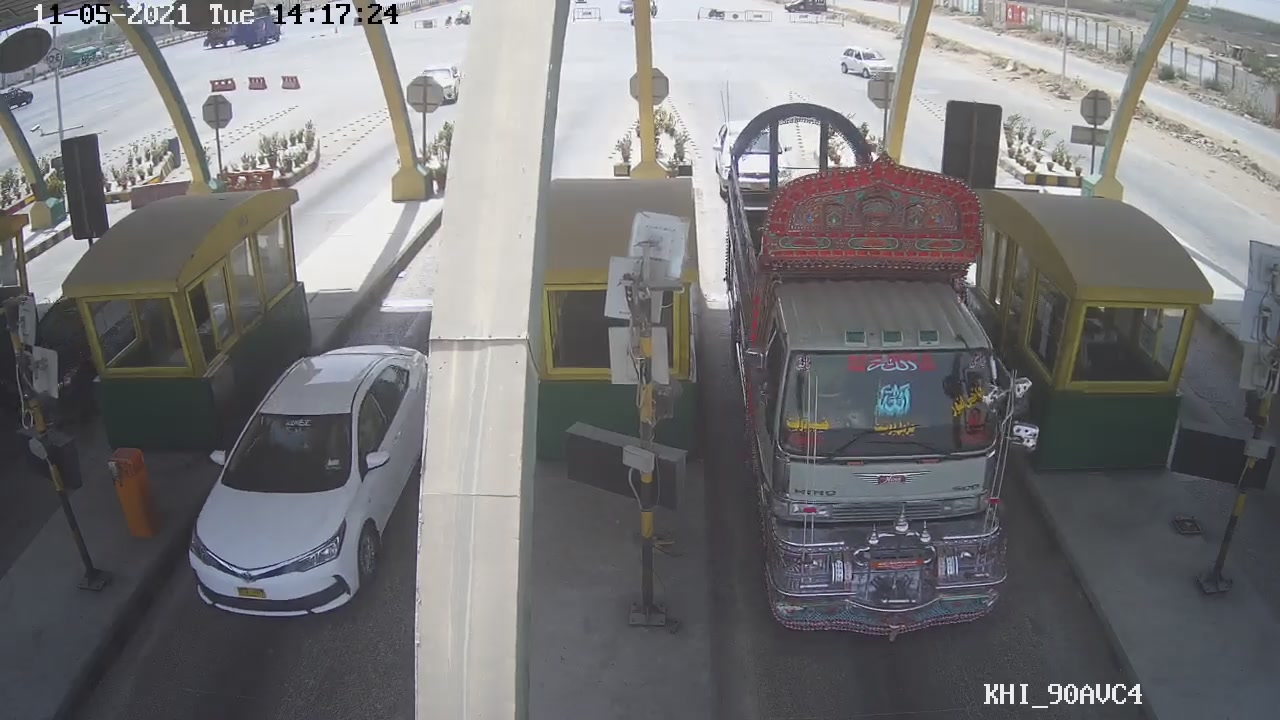F5: (709, 95, 1040, 637)
